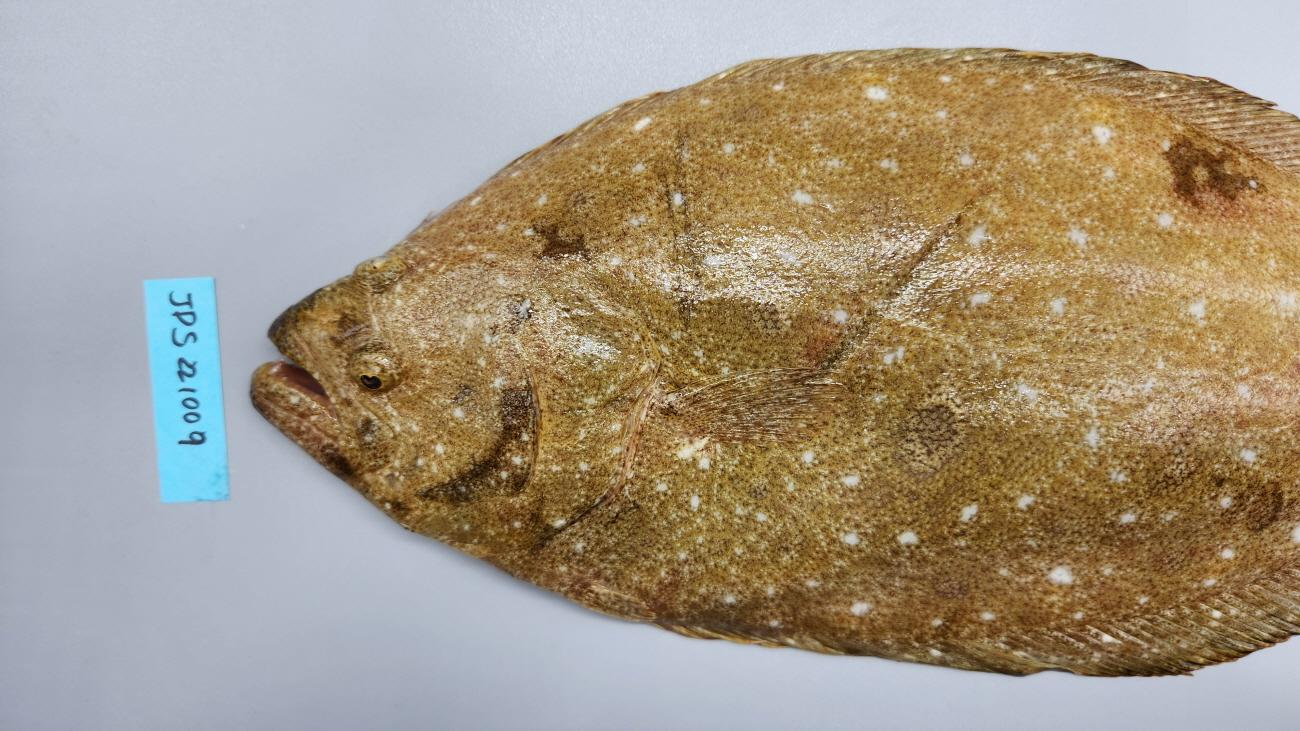POOUN: (247, 45, 1300, 681)
